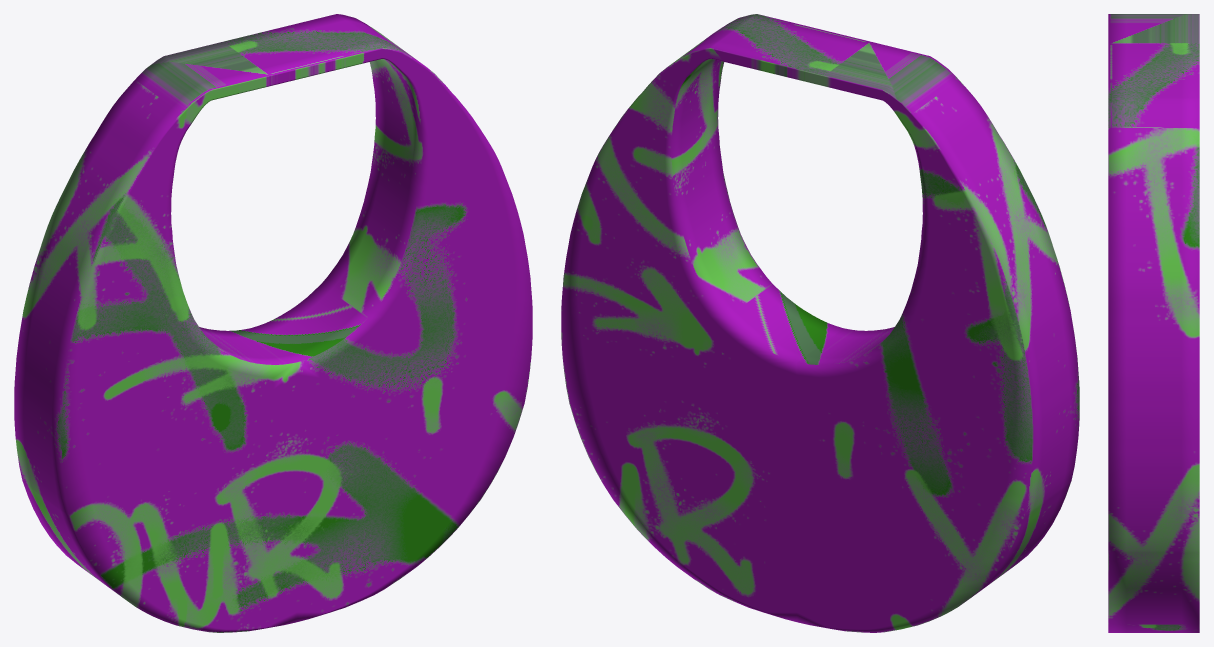
File: TAG UBAG.gltf
3 views of the same model, side by side, from view 1: azimuth 30°, elevation 25°; view 2: azimuth 150°, elevation 25°; view 3: azimuth 270°, elevation 25° (orthographic).
Parts seen in each view (by area): view 1: Cube.033; view 2: Cube.033; view 3: Cube.033.
Boxes of the visible parts, x1,y1,x2,y2 form: Cube.033: [14, 14, 532, 632]; Cube.033: [561, 14, 1079, 632]; Cube.033: [1108, 14, 1199, 632].
Size of the model in its own units: 1.87 by 2.09 by 0.319.
1 material, 1 textured.
